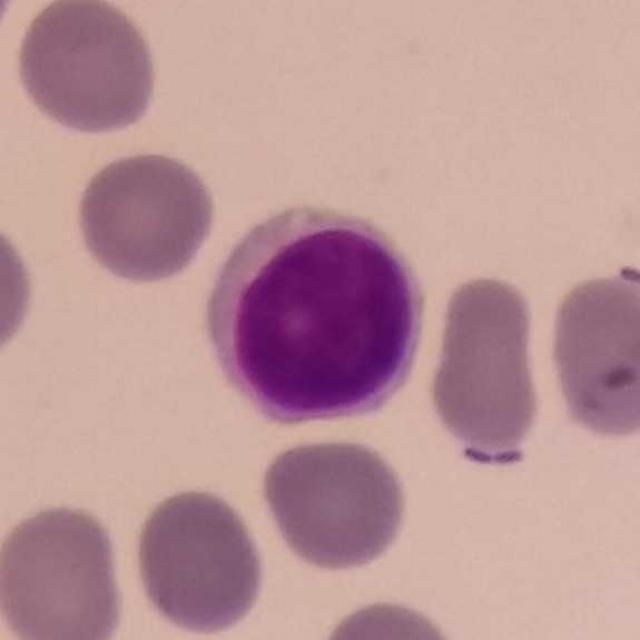Lymphocyte: (207, 208, 432, 437)
RBC: (420, 268, 550, 478), (126, 482, 270, 639), (256, 432, 413, 576), (9, 0, 165, 140), (69, 145, 220, 287), (0, 496, 132, 639), (540, 263, 640, 445), (309, 593, 472, 640), (0, 210, 41, 378), (0, 0, 26, 57)
